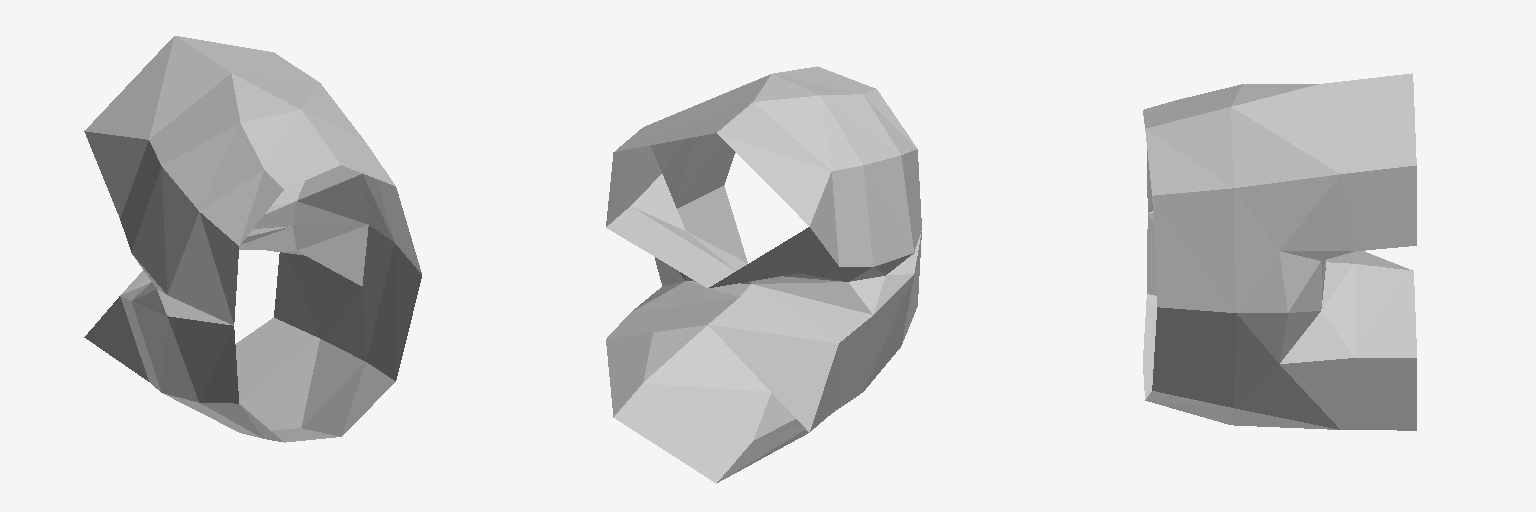
The picture shows the model from 3 angles: view 1: azimuth 30°, elevation 25°; view 2: azimuth 150°, elevation 25°; view 3: azimuth 270°, elevation 25°; orthographic projection.
Visible parts, largest first — view 1: ka_pelvis_001; view 2: ka_pelvis_001; view 3: ka_pelvis_001.
Boxes of the visible parts, x1,y1,x2,y2 form: ka_pelvis_001: [84, 36, 421, 442]; ka_pelvis_001: [606, 66, 921, 483]; ka_pelvis_001: [1143, 73, 1416, 430].
Bounding box in the file's own units: 23.8 × 33.93 × 24.08.